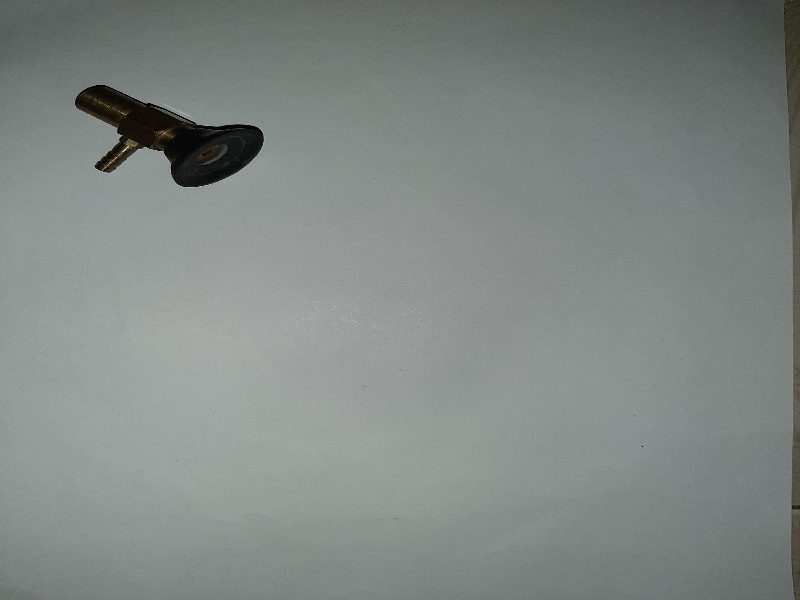Joint Hold: (73, 80, 269, 190)
